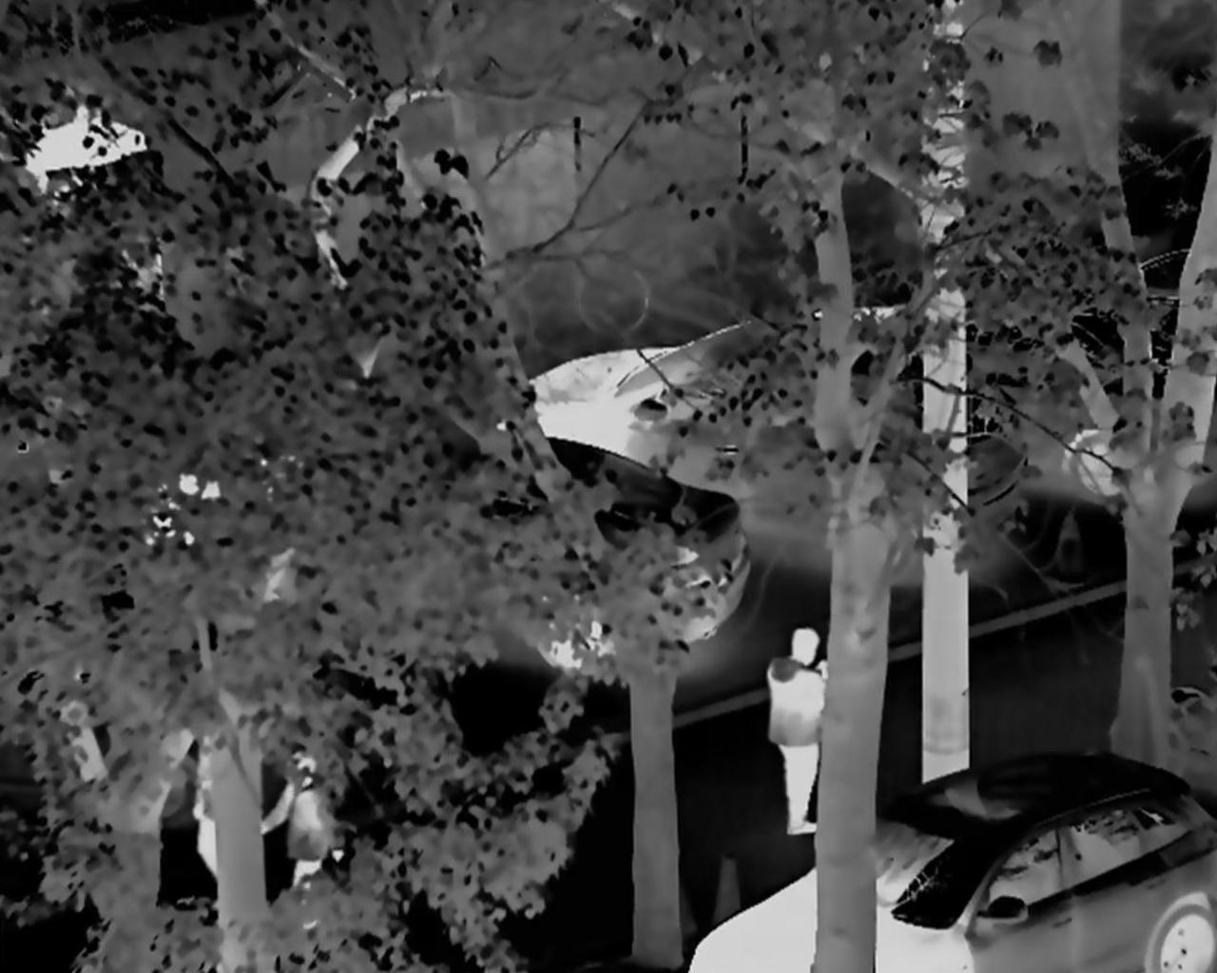person: (758, 618, 829, 849), (261, 746, 345, 910), (181, 732, 255, 902)
